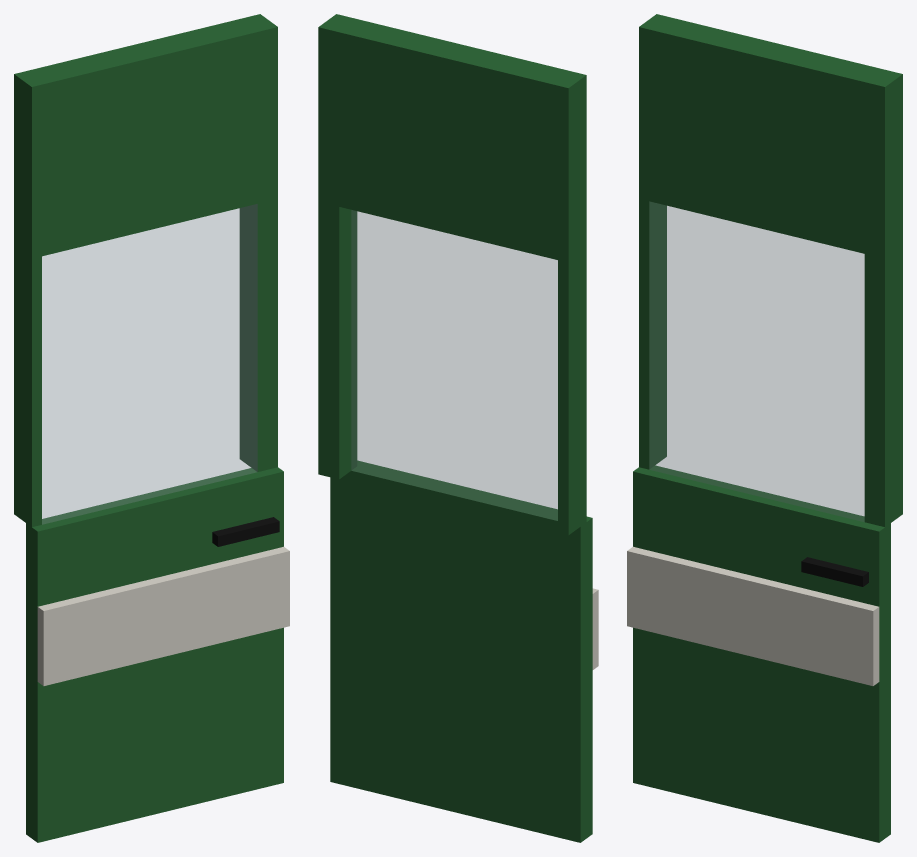
Rendered from step_van_side_door.glb.
3 views of the same model, side by side, from view 1: azimuth 30°, elevation 25°; view 2: azimuth 150°, elevation 25°; view 3: azimuth 330°, elevation 25° (orthographic).
Visible parts, largest first — view 1: body:compound; view 2: body:compound; view 3: body:compound.
Part boxes in pixels (box(x1,y1,x2,y2)): body:compound: box(14, 14, 289, 842); body:compound: box(318, 14, 598, 842); body:compound: box(627, 14, 902, 842).
Size of the model in its own units: 0.75 by 2.19 by 0.1562.
